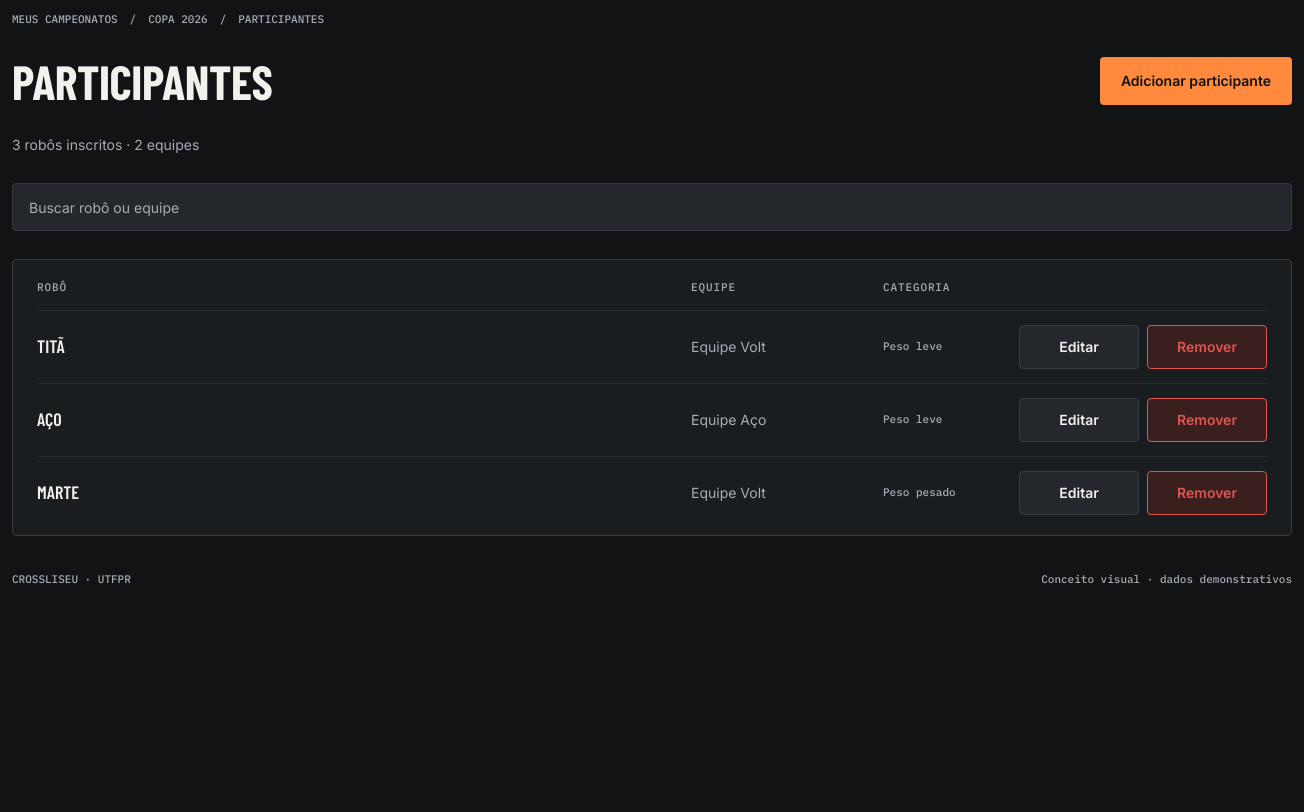
ParticipantsView › filters by robot or team and clears the search
The width and height of the screenshot is (1304, 812).
Type "aco" into the search field with placeholder "Buscar robô ou equipe" at [652, 207], box left=12, top=183, right=1292, bottom=231
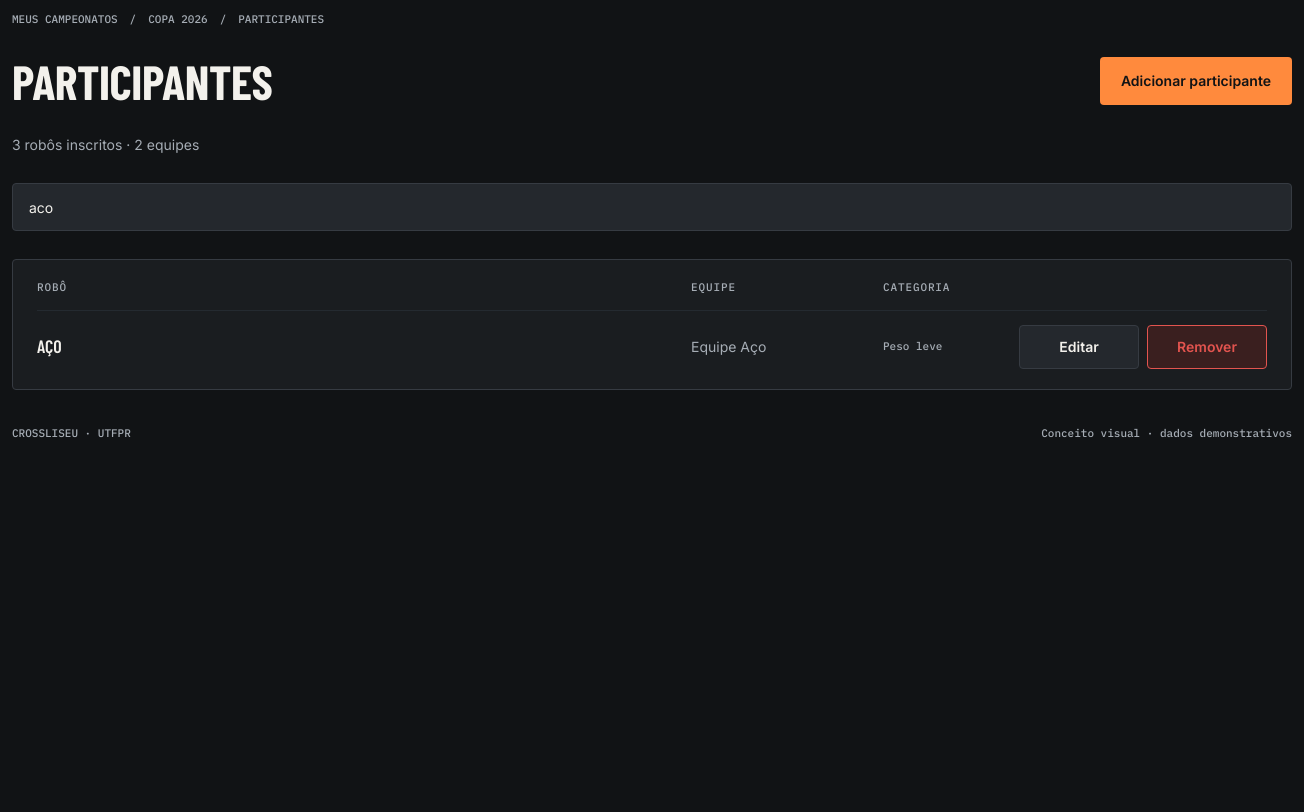
Replace the text in the search field with "volt" at [652, 207], box left=12, top=183, right=1292, bottom=231
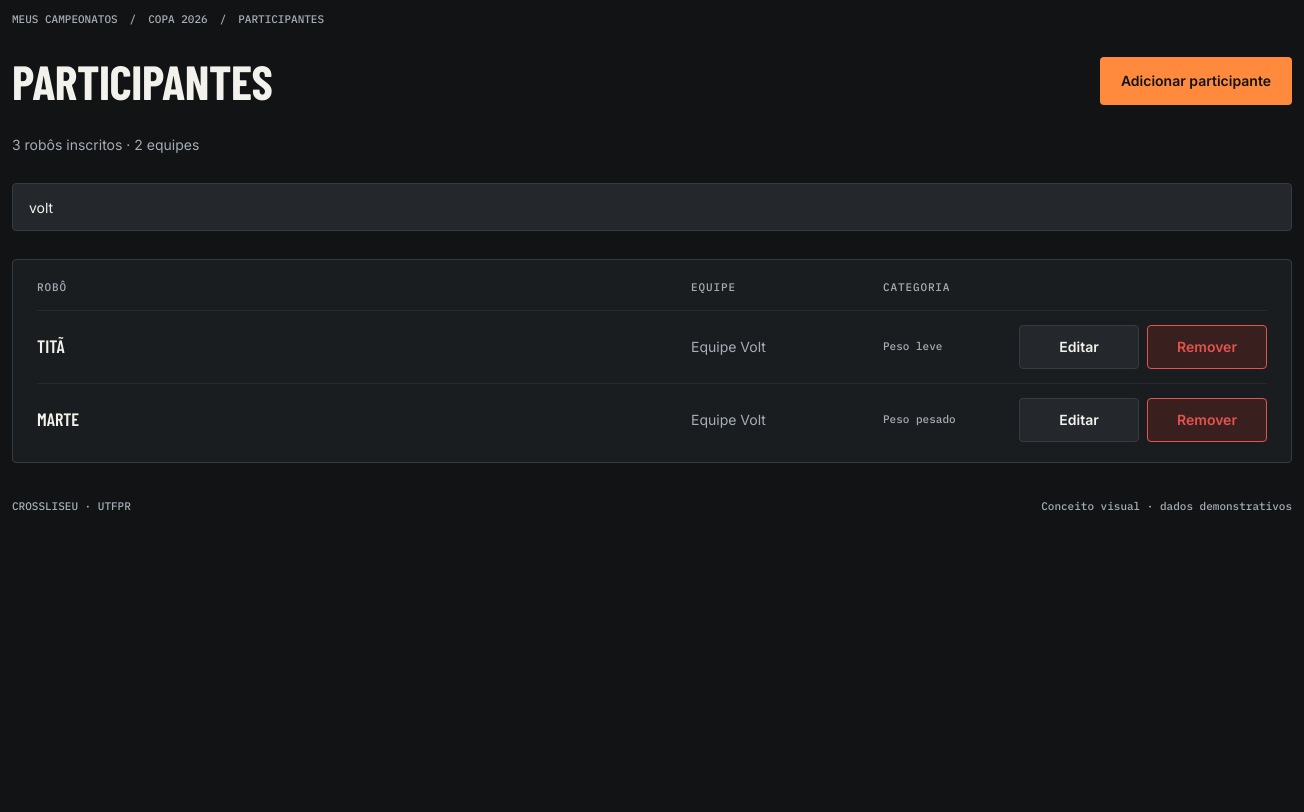
Replace the text in the search field with "zzz" at [652, 207], box left=12, top=183, right=1292, bottom=231
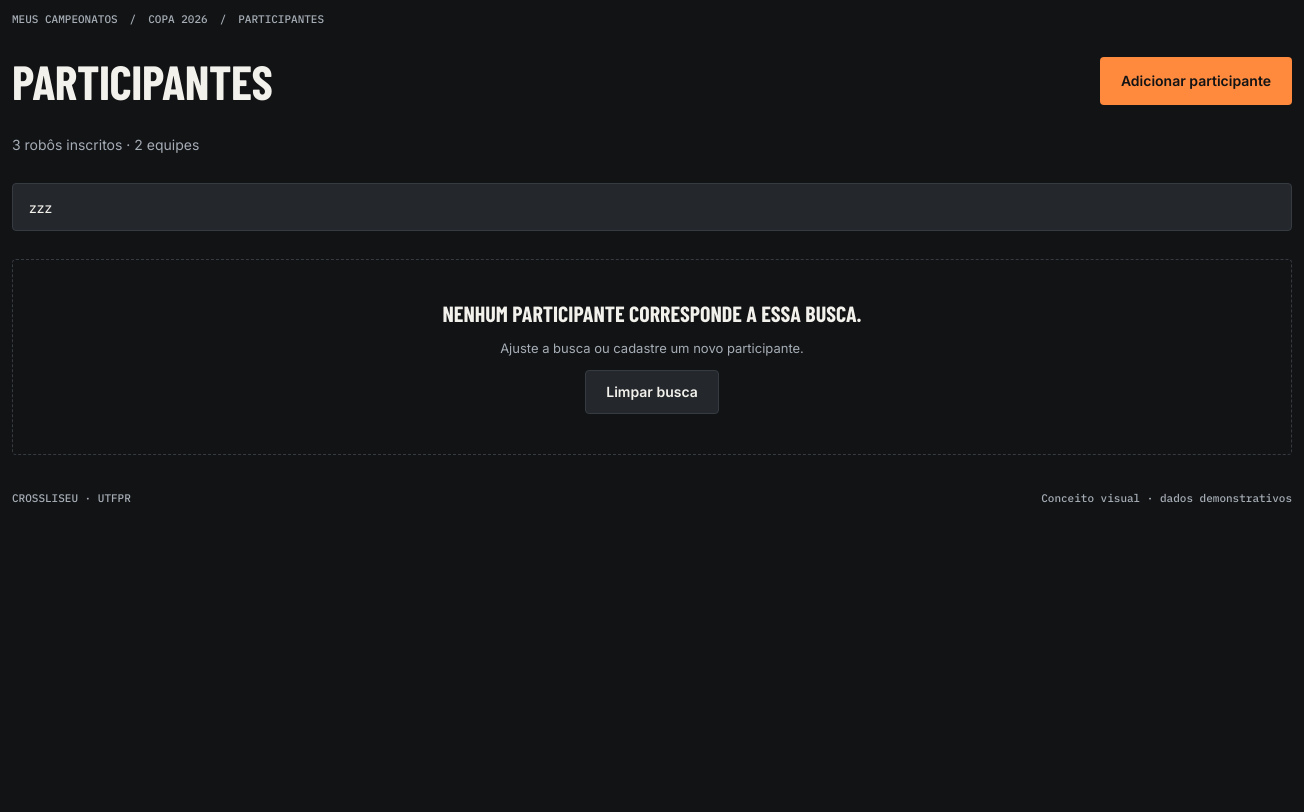
Expected: the text "Nenhum participante corresponde a essa busca." is shown, left=442, top=300, right=862, bottom=327
Click the button "Limpar busca" at [652, 392], box left=585, top=370, right=719, bottom=414
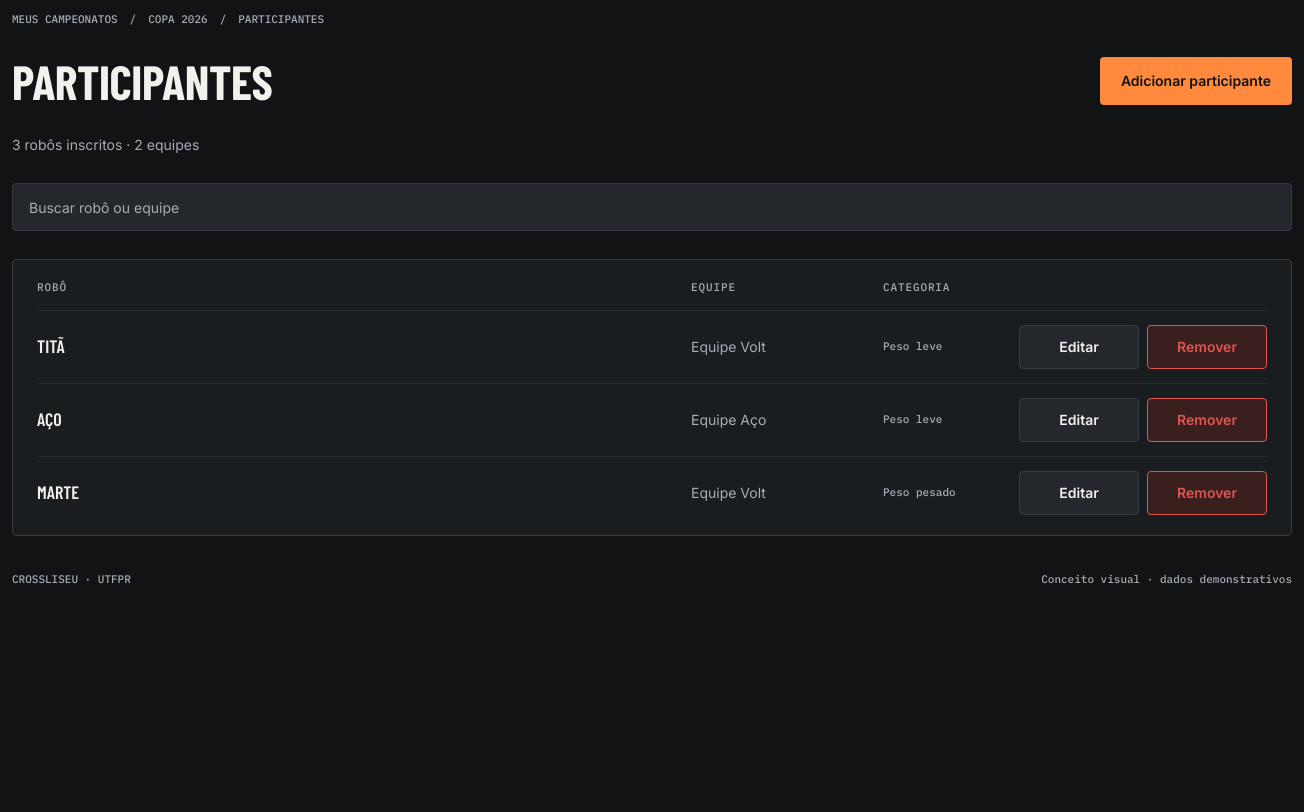
Expected: the search field with placeholder "Buscar robô ou equipe" is empty, left=12, top=183, right=1292, bottom=231
